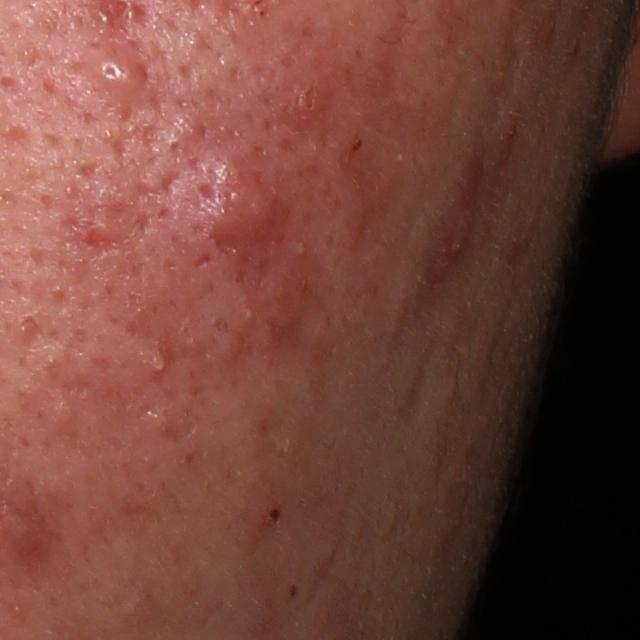atrophic_scar: (74, 225, 122, 258)
nevus: (287, 582, 301, 600)
nodule: (409, 122, 501, 307), (186, 150, 290, 252)
papule: (288, 78, 329, 123)
pustule: (78, 43, 152, 99), (141, 346, 170, 378)
